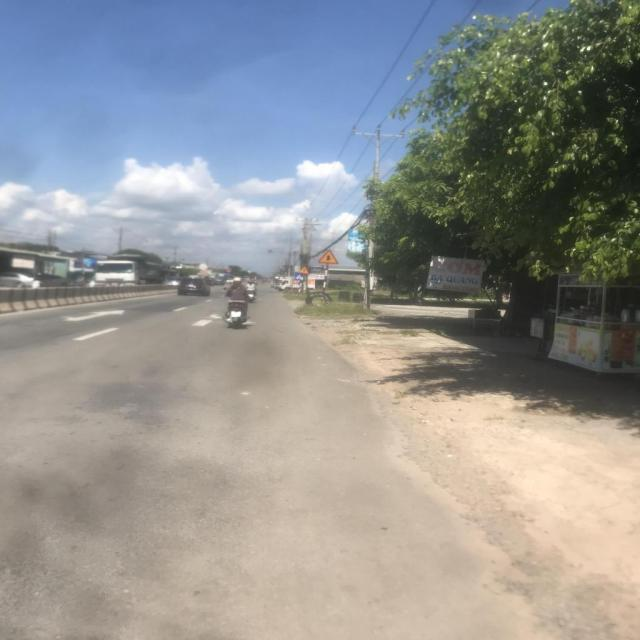cam_xe_di_nguoc_chieu: (226, 269, 232, 273)
chu_y_nguoi_di_bo_cat_ngang: (298, 266, 310, 274)
duong_nguoi_di_bo_sang_ngang: (294, 273, 302, 280)
giao_nhau_voi_duong_khong_uu_tien: (317, 249, 338, 264)
huong_phai_di_vuot_chuong_ngai_vat_phai: (226, 273, 231, 277)
